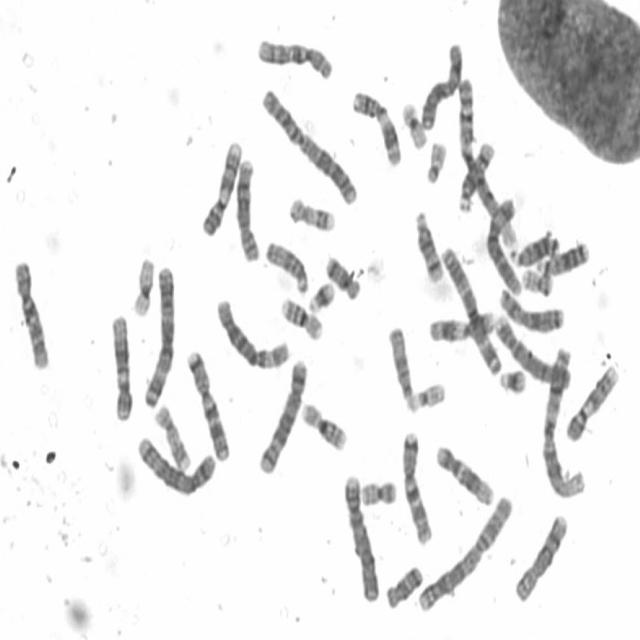A1: (454, 71, 519, 252), (538, 338, 588, 500)
A2: (257, 80, 359, 207), (414, 489, 515, 614)
A3: (436, 239, 504, 376), (140, 258, 178, 410)
B4: (491, 308, 574, 391), (339, 466, 382, 604)
B5: (254, 351, 310, 476), (133, 429, 218, 497)
C10: (9, 251, 52, 372), (252, 30, 335, 81)
C11: (347, 83, 404, 167), (424, 302, 497, 344)
C12: (431, 436, 496, 507), (107, 306, 135, 422)
C6: (212, 290, 292, 371), (482, 189, 524, 296)
C7: (181, 342, 232, 462), (397, 424, 434, 546)
C8: (510, 506, 571, 605), (232, 151, 261, 264)
C9: (562, 357, 620, 444), (198, 132, 245, 238)
D13: (533, 234, 590, 278), (506, 224, 560, 267)
D14: (455, 133, 497, 213), (410, 203, 445, 284)
D15: (261, 233, 311, 296), (384, 318, 417, 406)
E16: (297, 394, 350, 452), (277, 289, 325, 342)
E17: (150, 398, 193, 472), (284, 190, 338, 233)
E18: (381, 558, 424, 611), (321, 247, 363, 301)
F19: (128, 250, 156, 318), (398, 94, 429, 150)
F20: (356, 472, 398, 507), (517, 260, 555, 297)
G21: (494, 360, 528, 396), (305, 275, 336, 314)
G22: (404, 374, 447, 414), (421, 133, 449, 185)
X: (416, 34, 466, 131), (495, 281, 566, 334)
